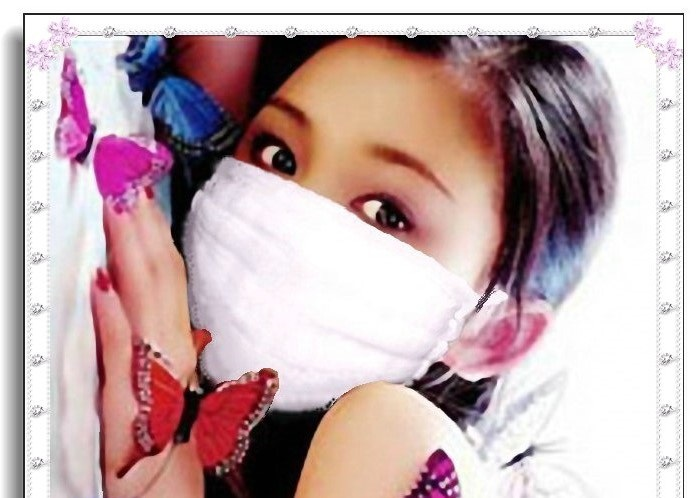face_mask: (181, 92, 477, 411)
